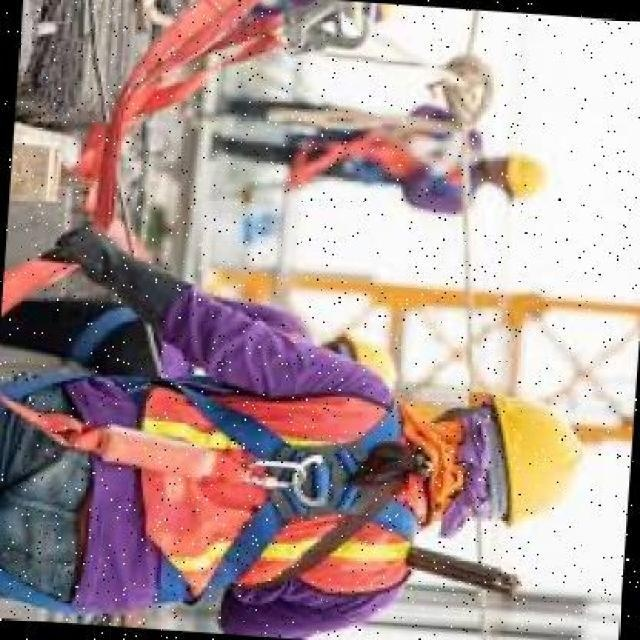Arnes_seguridad: (0, 363, 437, 625)
